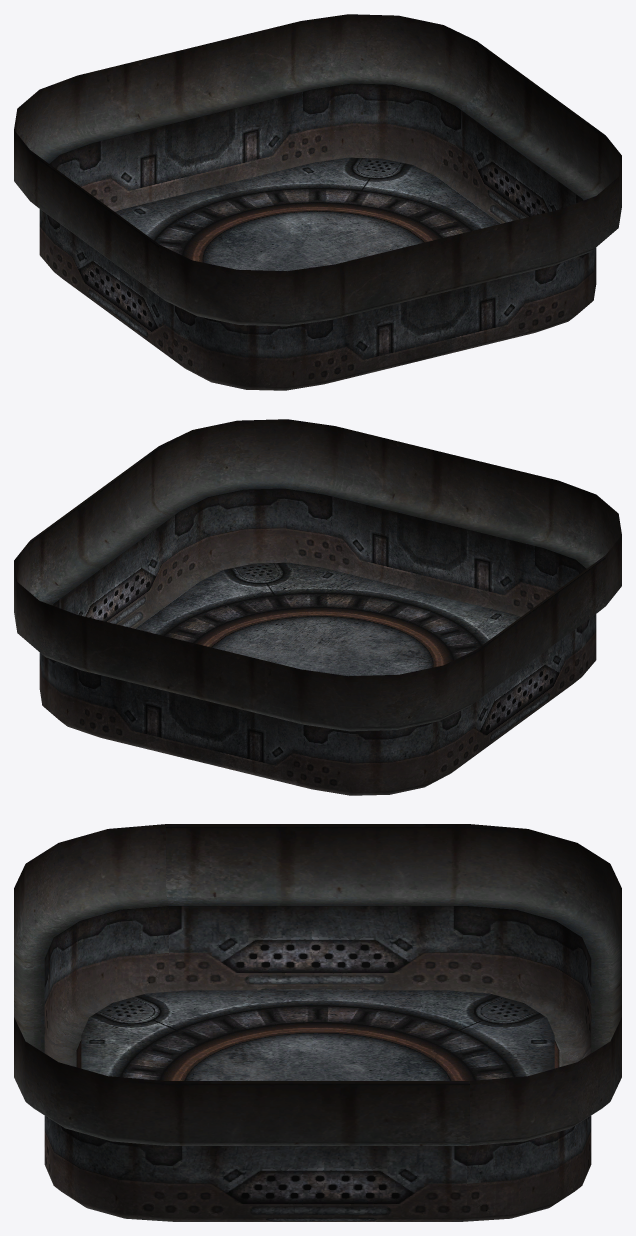
Rendered from living_area_extruded_panel_empty.dae.
3 renders of one model, top to bottom at view 1: azimuth 30°, elevation 25°; view 2: azimuth 150°, elevation 25°; view 3: azimuth 270°, elevation 25°, orthographic. The views are drawn at different scales.
Parts seen in each view (by area): view 1: pCube1; view 2: pCube1; view 3: pCube1.
Part boxes in pixels (bbox=[...]): pCube1: bbox=[14, 14, 621, 390]; pCube1: bbox=[14, 419, 621, 795]; pCube1: bbox=[14, 824, 621, 1221].
Size of the model in its own units: 4 by 1.15 by 4.
Materials: 1 (1 with a texture image).
